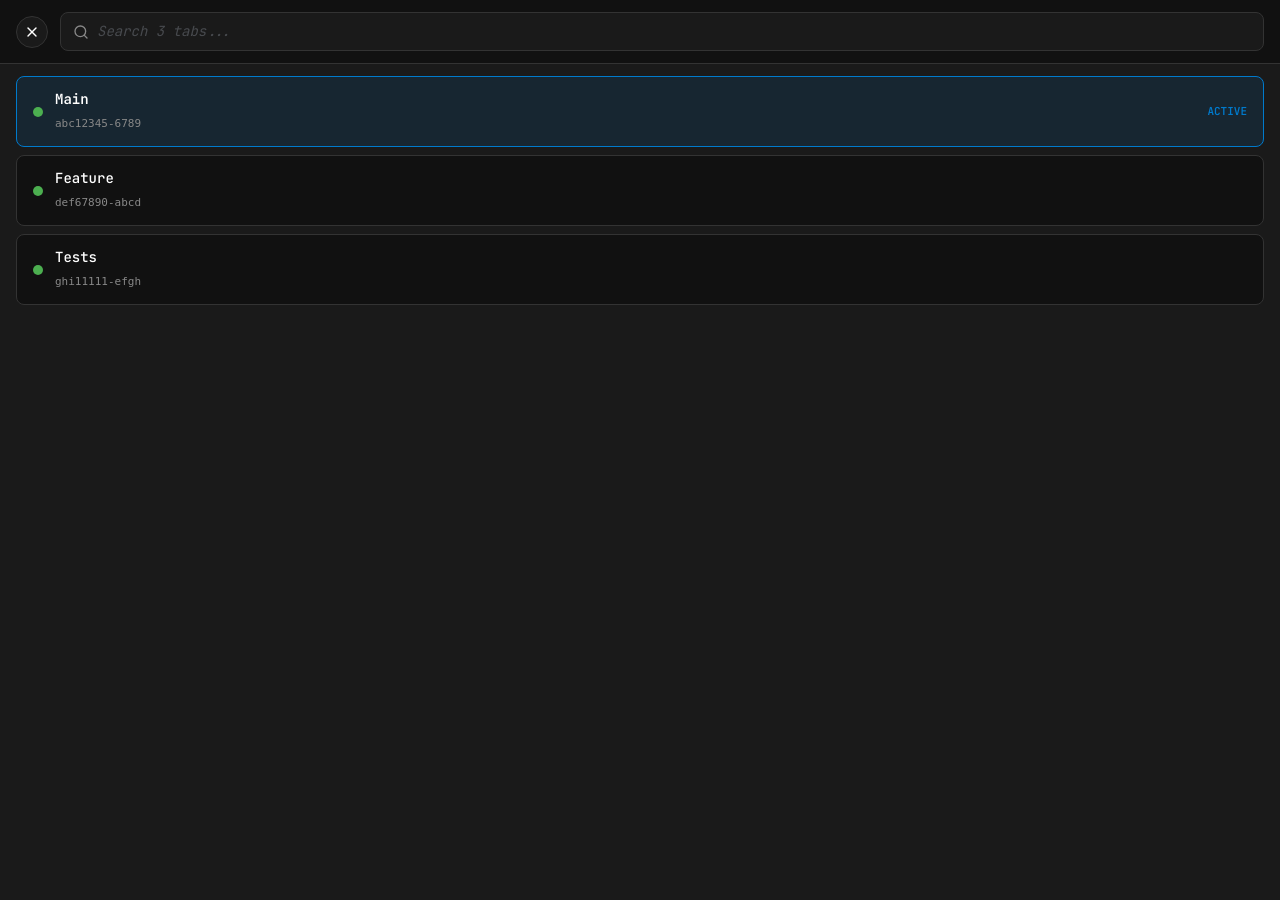
Test: TabSearchModal › TabSearchModal main component › Clear search button › clears search when clicked
Type "test" into the field with placeholder "Search 3 tabs..." at [674, 32], box x1=97 y1=21 x2=1251 y2=42
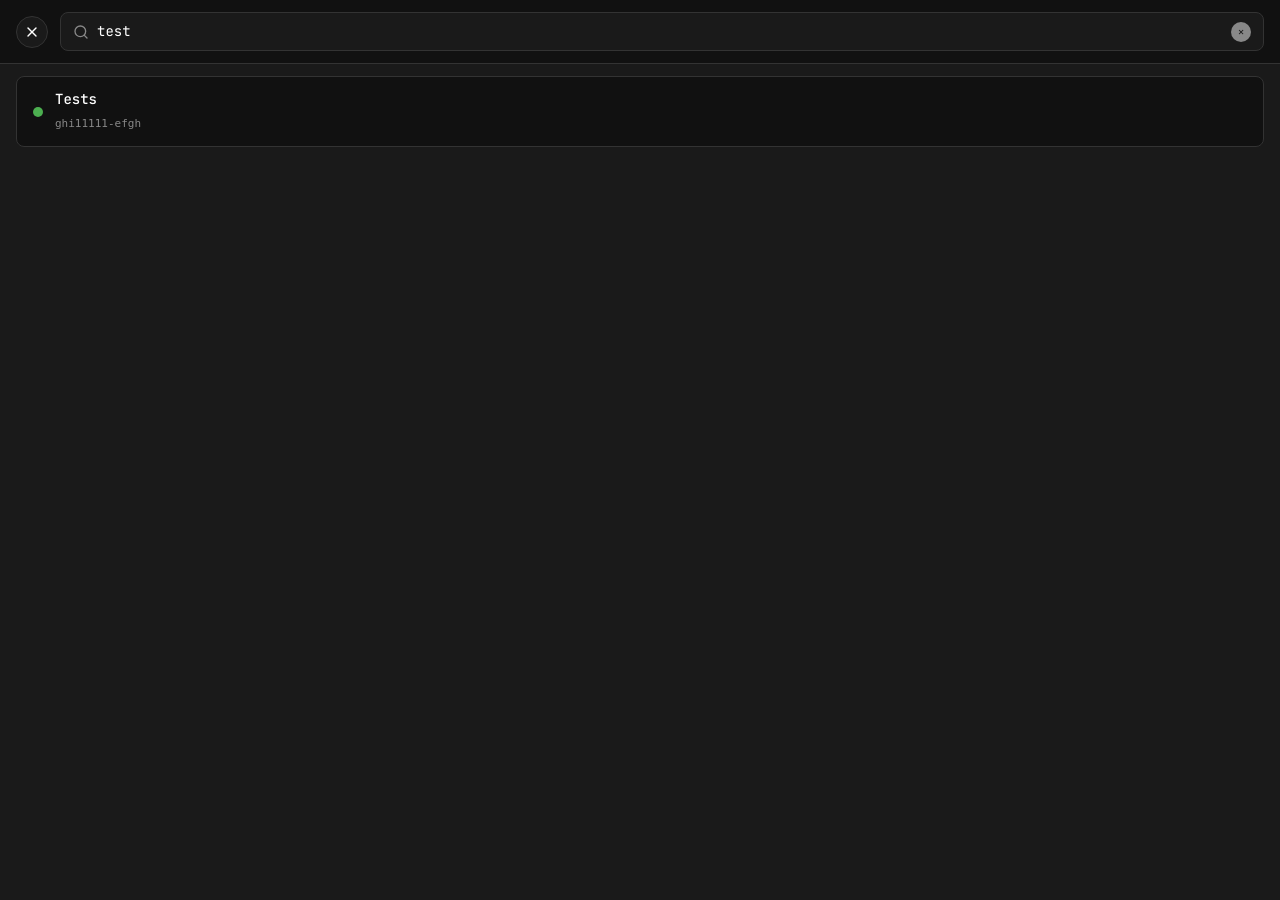
Click the button "×" at [1241, 32], box x1=1231 y1=22 x2=1251 y2=42
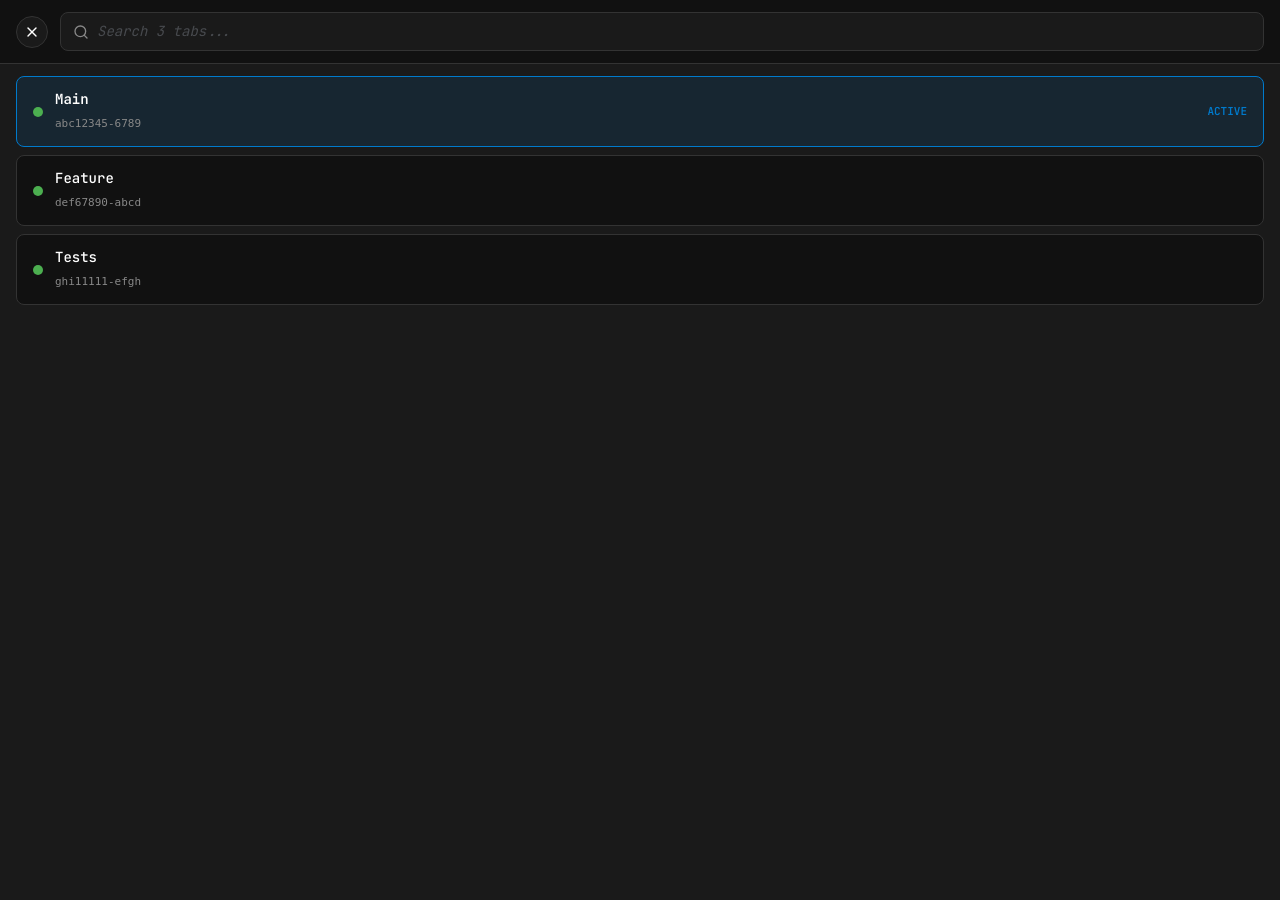
Expected: the field with placeholder "Search 3 tabs..." is empty, x1=97 y1=21 x2=1251 y2=42
